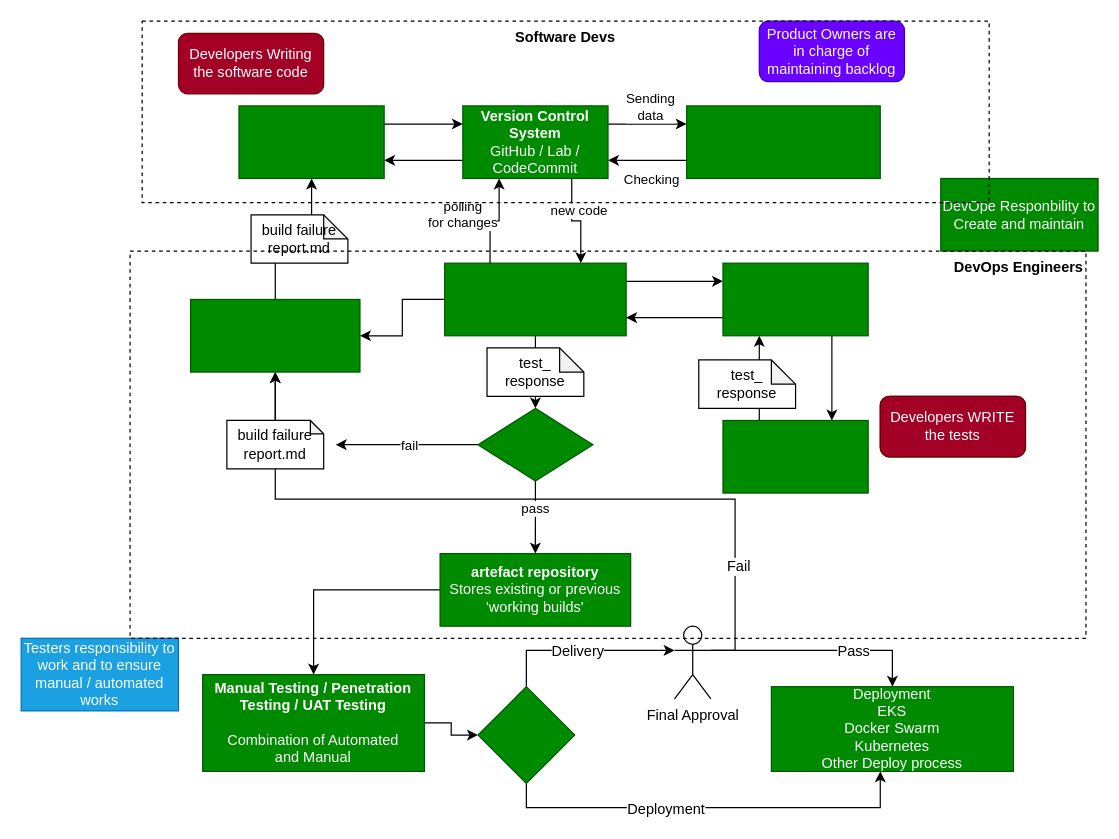
Some shapes in this 1119 by 839 pixel diagram are drawn without their labels. The centre of each missing label's shape, as x and y in pixels:
Build tool maven / node/ ant/ gradle / docker: point 795,299
CD type: point 526,734
CI Server Jenkins / GitHub Actions / CodeDeploy / TeamCity: point 534,299
Developers Pushing code / changes to Github: point 311,141
mail server sends build data to developer who pushed: point 274,335
Project Tracking Board Tracks commits made and trigger user stories to be 'done': point 782,141
run tests, unit, integration tests against the code base: point 795,456
tests pass?: point 535,444
